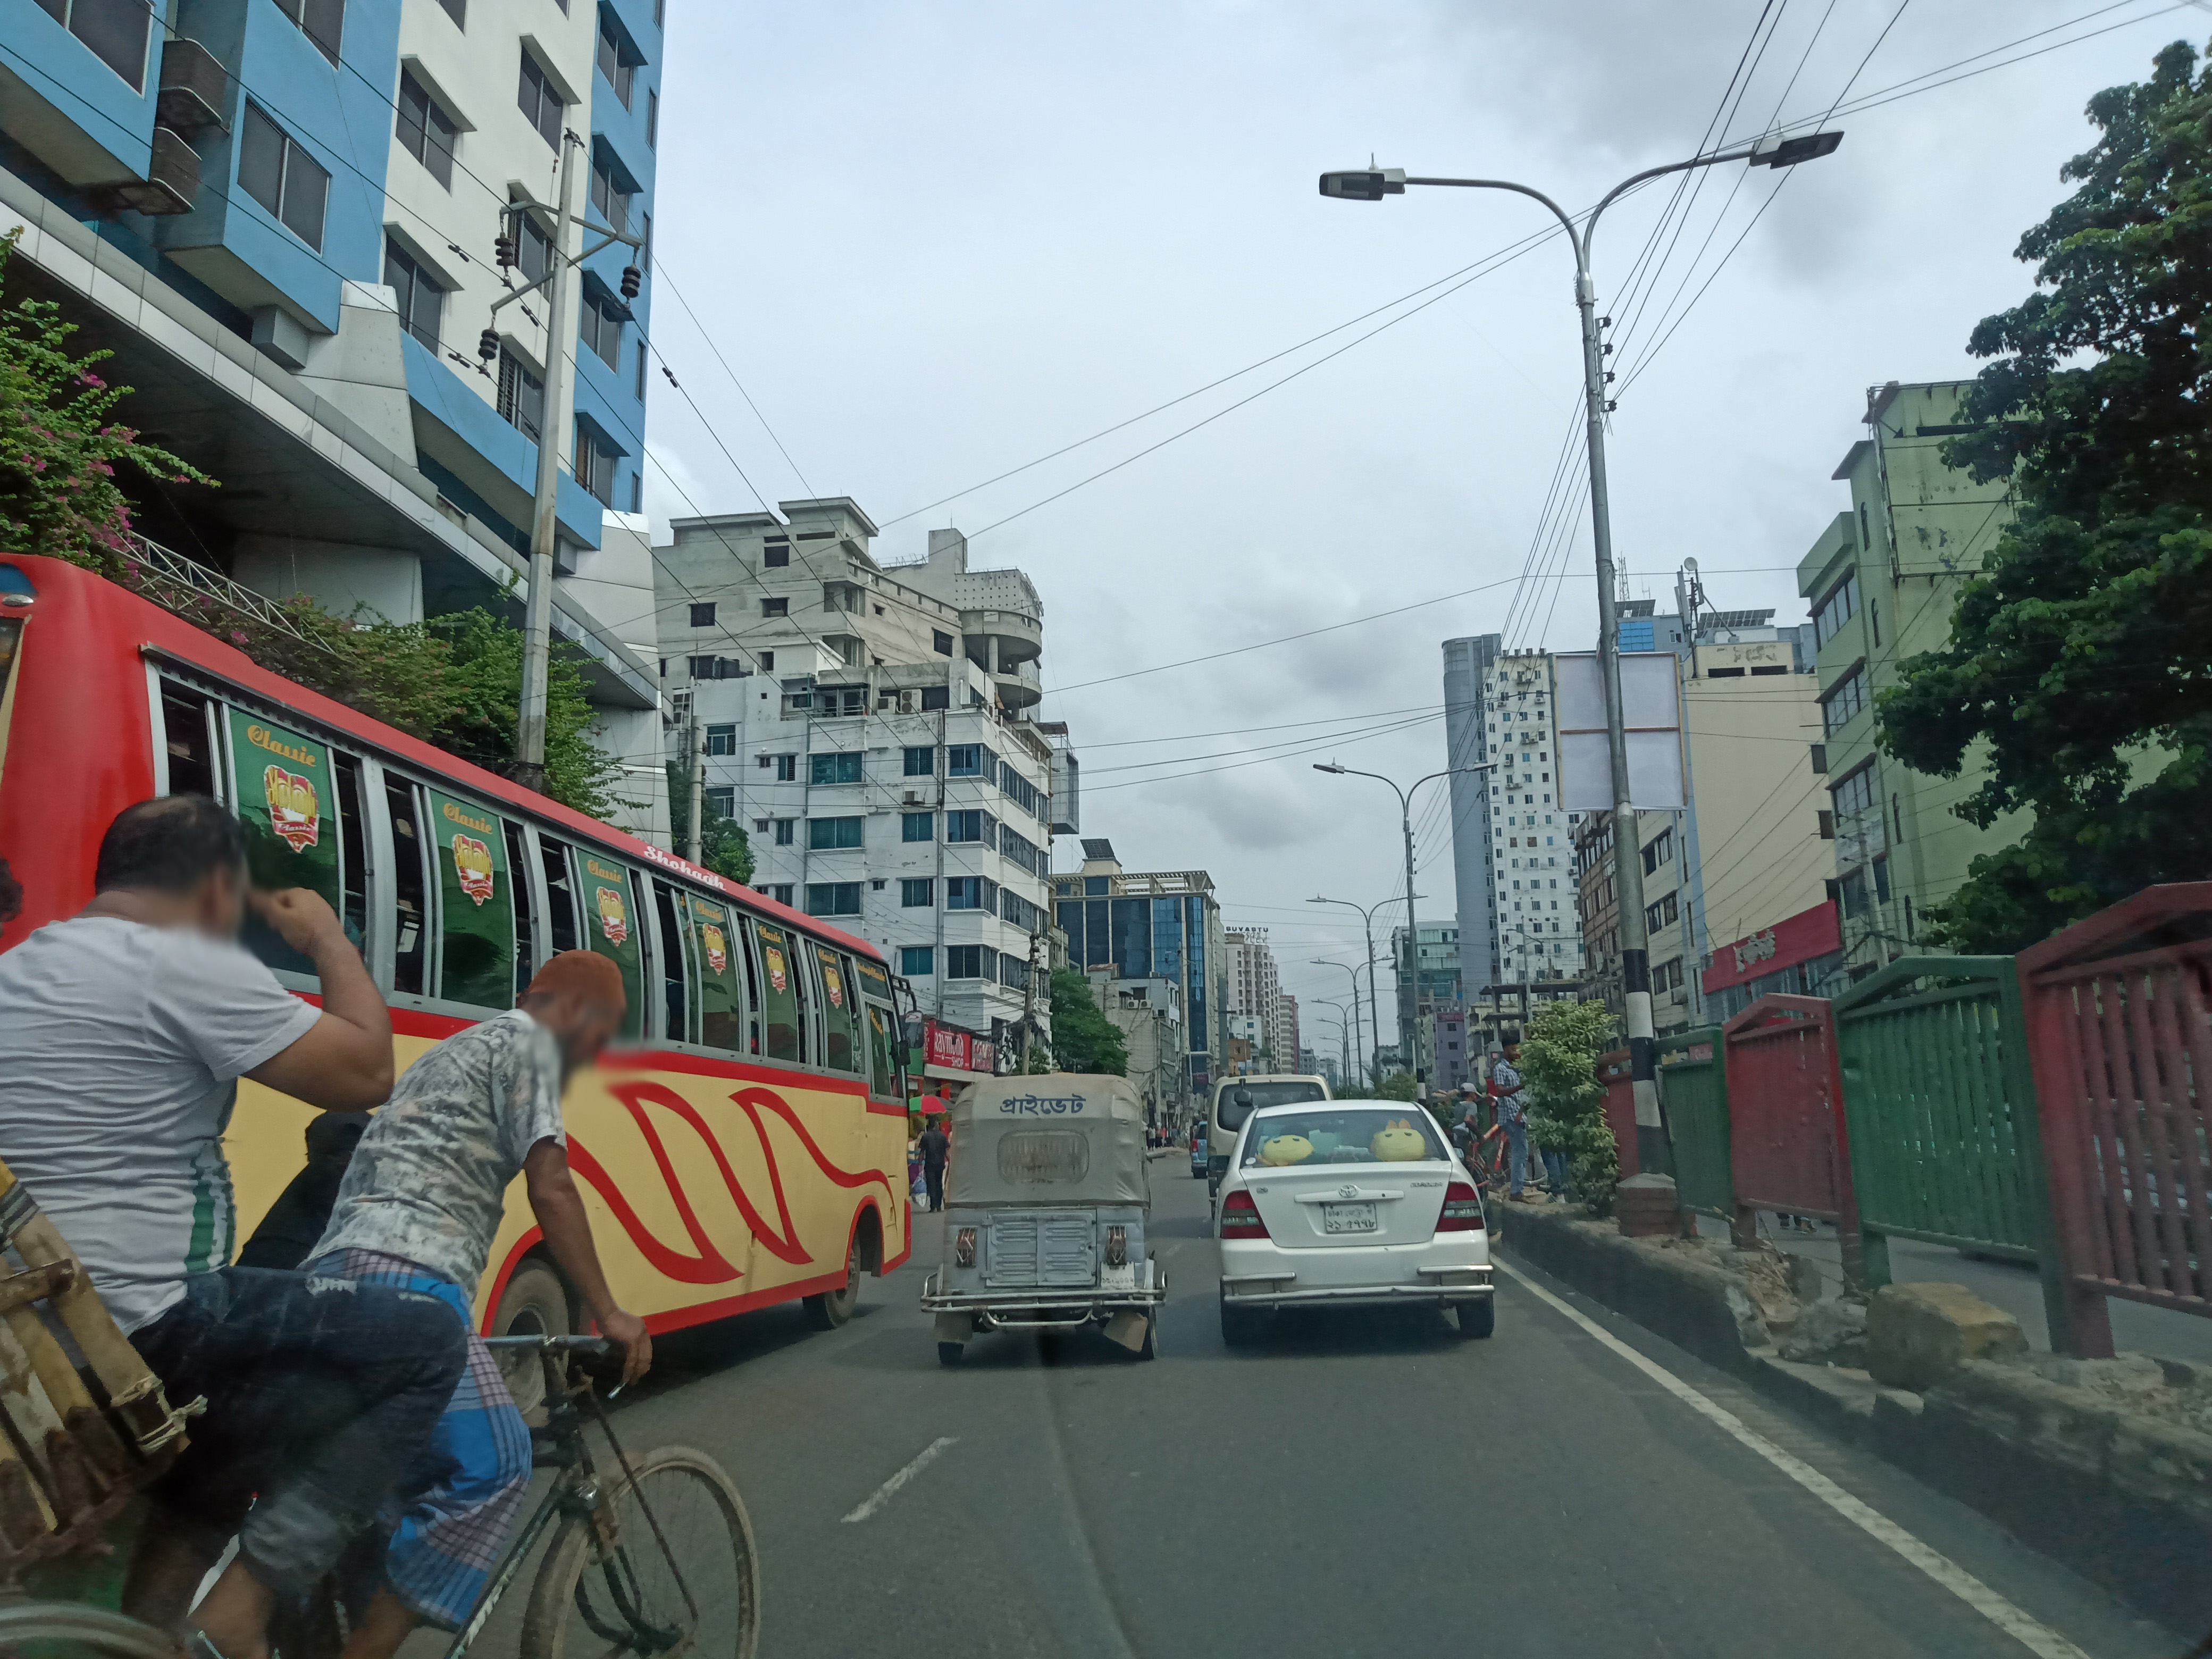bus: (0, 558, 927, 1439)
car: (1217, 1086, 1491, 1340), (1207, 1066, 1325, 1117)
cng: (935, 1068, 1169, 1373)
rickshaw: (0, 1166, 772, 1652)
